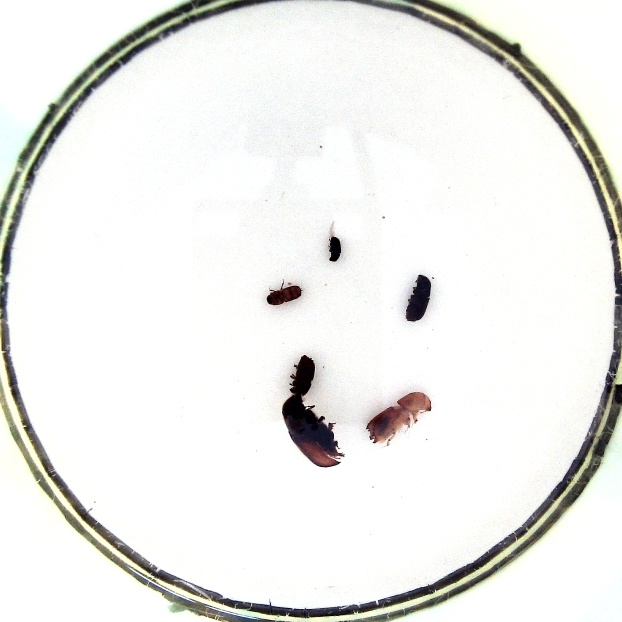acuminatus: (261, 280, 302, 307)
armandi: (402, 272, 433, 324)
boerner: (361, 389, 432, 448)
coleoptera: (323, 233, 346, 263)
leconte: (281, 393, 342, 471)
linnaeus: (288, 353, 316, 398)
